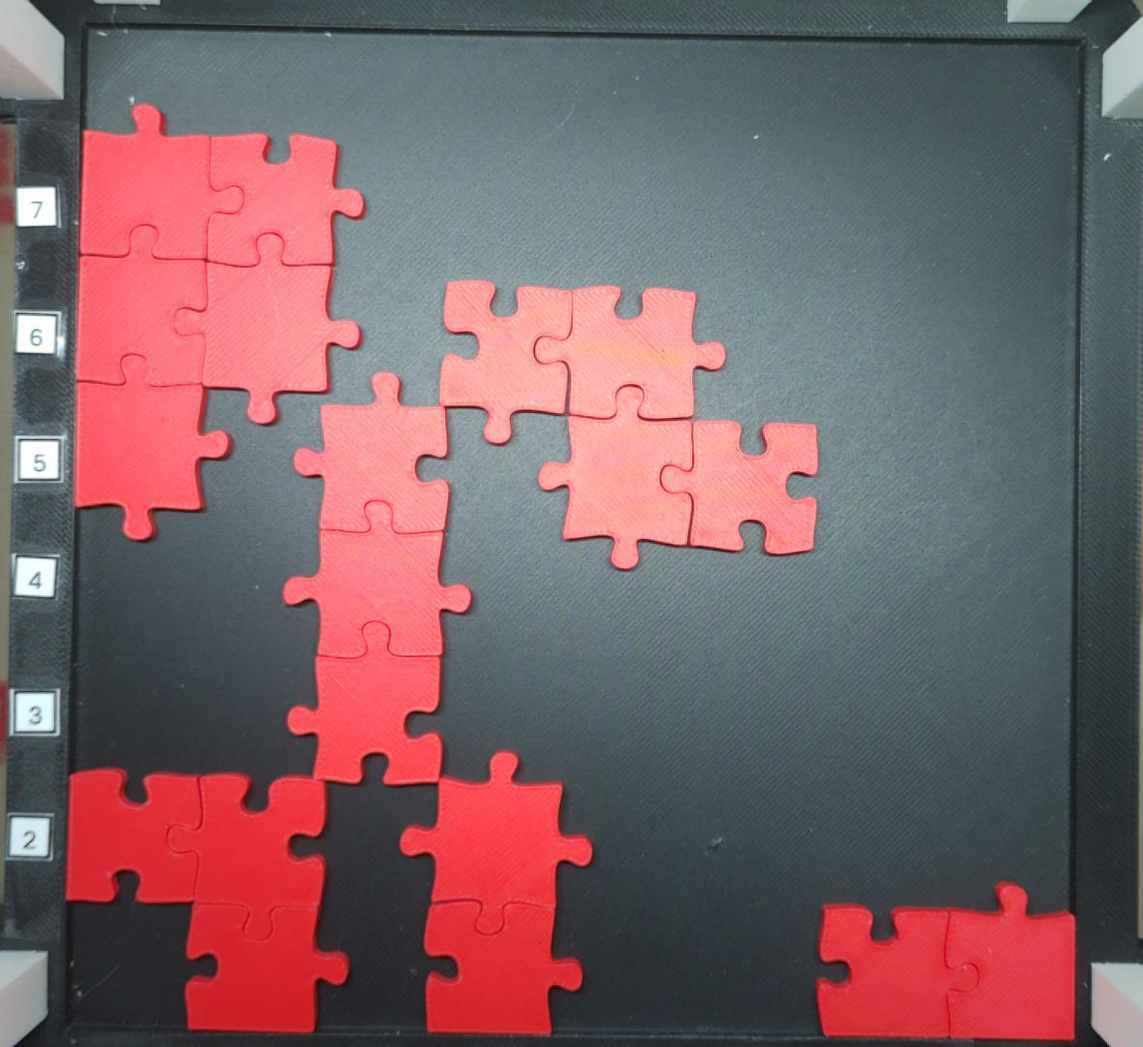p_2: (401, 747, 594, 1036), (813, 876, 1075, 1042)
p_3: (283, 372, 477, 787), (66, 766, 347, 1036)
p_4: (438, 278, 820, 577)
p_m: (72, 103, 366, 542)
